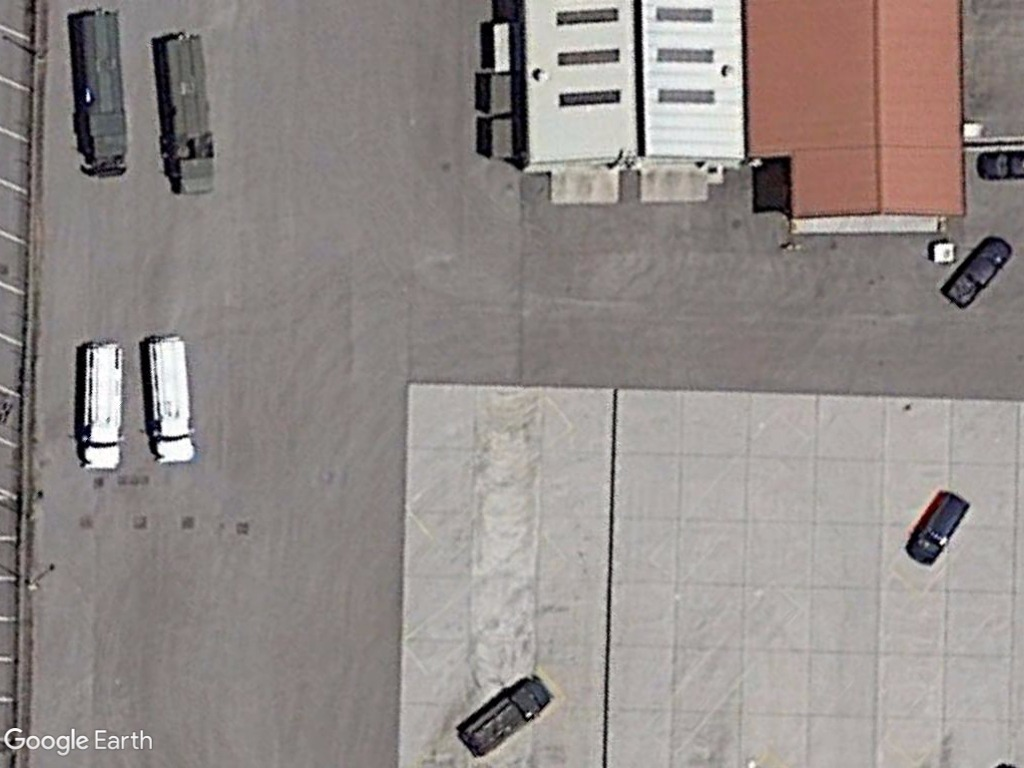other: (940, 230, 1015, 311)
truck: (152, 29, 224, 199), (68, 8, 134, 181), (134, 330, 201, 469), (451, 675, 556, 760), (80, 340, 130, 475)
van: (904, 485, 972, 570)
